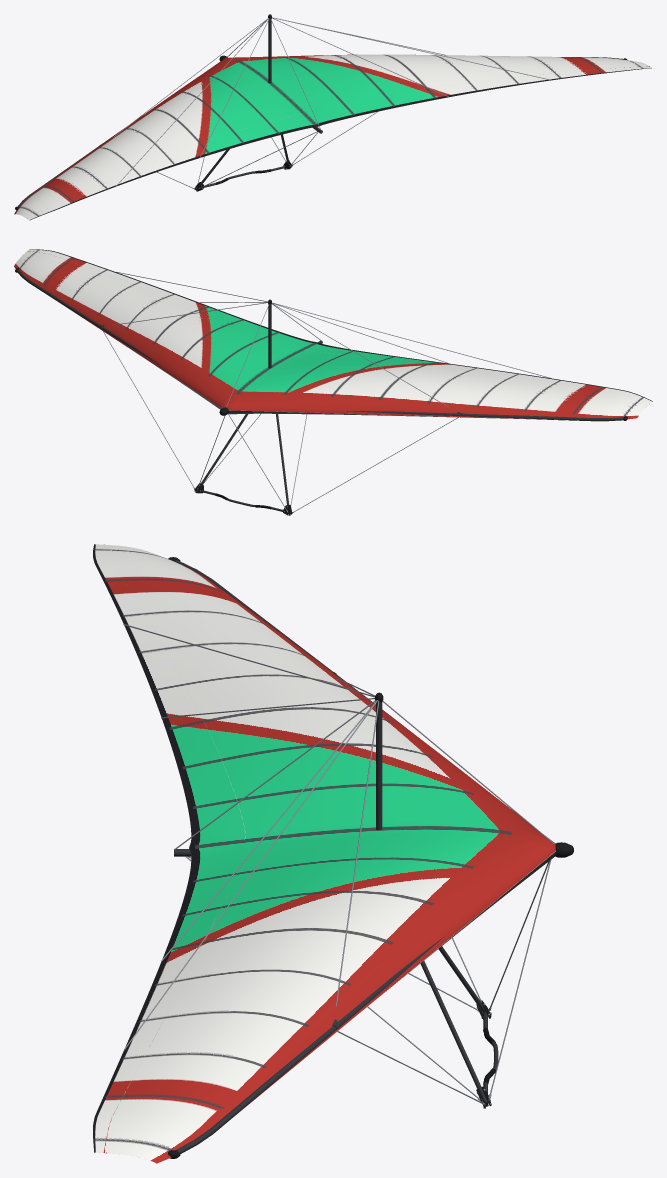
File: glider_moyes_gecko.glb
3 renders of one model, top to bottom at view 1: azimuth 30°, elevation 25°; view 2: azimuth 150°, elevation 25°; view 3: azimuth 270°, elevation 25°, orthographic. The views are drawn at different scales.
Parts seen in each view (by area): view 1: Sail, Frame, ControlFrame; view 2: Sail, Frame, ControlFrame; view 3: Sail, Frame, ControlFrame.
Part boxes in pixels (x1,y1,x2,y2): Sail: [14, 54, 652, 220]; Frame: [15, 14, 627, 210]; ControlFrame: [157, 111, 377, 191]; Sail: [14, 249, 652, 420]; Frame: [15, 268, 627, 421]; ControlFrame: [103, 331, 458, 515]; Sail: [93, 544, 555, 1163]; Frame: [123, 557, 573, 1158]; ControlFrame: [185, 856, 551, 1108].
Bounding box in the file's own units: 9.7 × 2.76 × 3.24.
8 materials, 1 textured.
